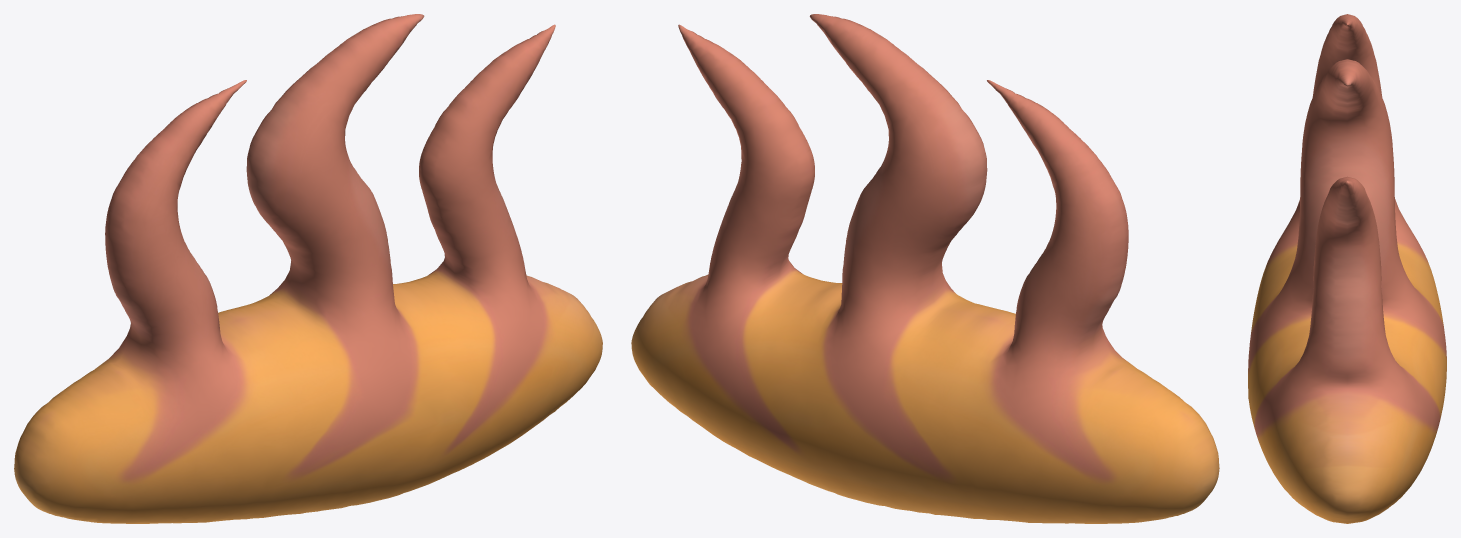
File: Spa19.glb
3 renders of one model, left to right at view 1: azimuth 30°, elevation 25°; view 2: azimuth 150°, elevation 25°; view 3: azimuth 270°, elevation 25°, orthographic. The views are drawn at different scales.
Size of the model in its own units: 7.08 by 5.44 by 2.28.
Materials: 1 (1 with a texture image).
